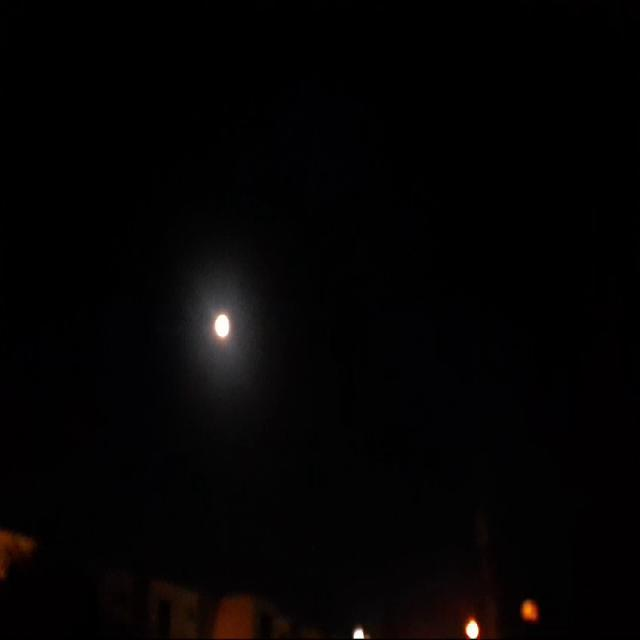moon: (210, 304, 232, 343)
